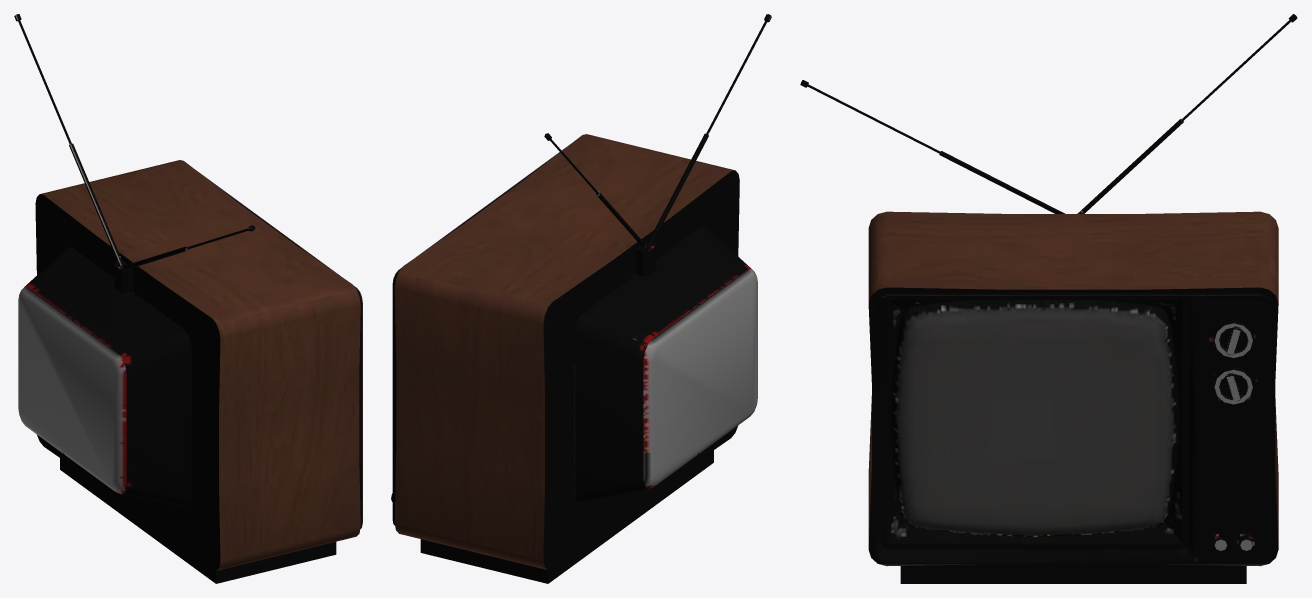
3 renders of one model, left to right at view 1: azimuth 30°, elevation 25°; view 2: azimuth 150°, elevation 25°; view 3: azimuth 270°, elevation 25°, orthographic. The views are drawn at different scales.
Visible parts, largest first — view 1: body0_model0_lod0_mesh0; view 2: body0_model0_lod0_mesh0; view 3: body0_model0_lod0_mesh0.
Part boxes in pixels (left/top/right/bottom): body0_model0_lod0_mesh0: left=14, top=14, right=362, bottom=583; body0_model0_lod0_mesh0: left=391, top=14, right=771, bottom=583; body0_model0_lod0_mesh0: left=800, top=14, right=1297, bottom=583.
Bounding box in the file's own units: 21.5 × 42.5 × 38.82.
Materials: 1 (1 with a texture image).
